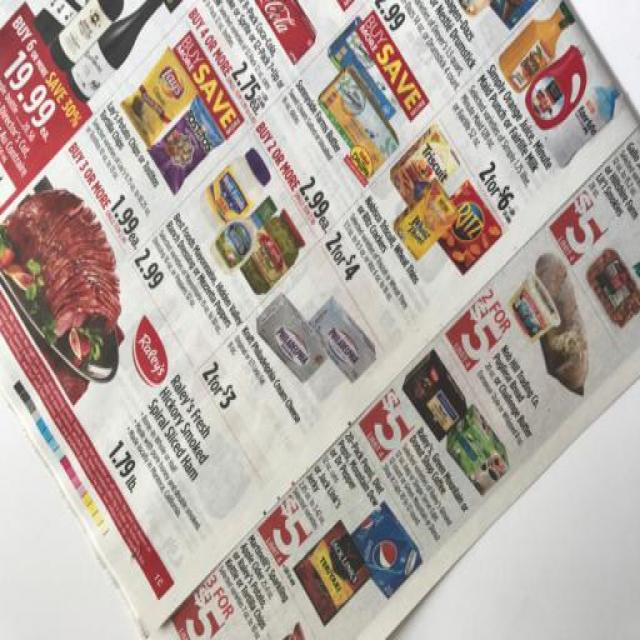paper: (1, 5, 640, 635)
